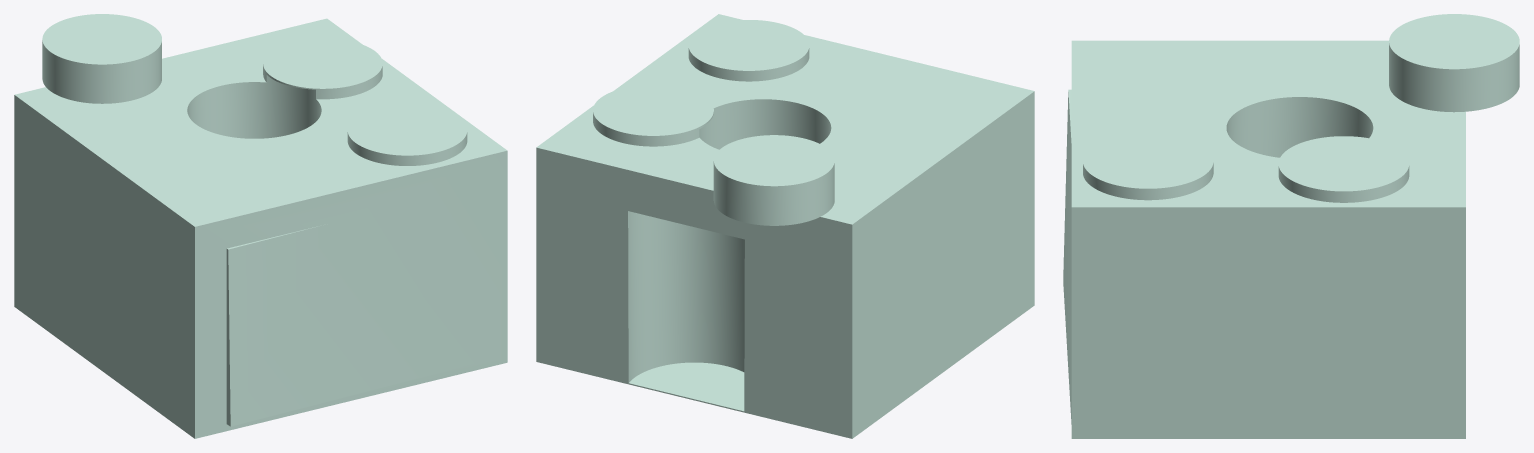
The picture shows the model from 3 angles, left to right: view 1: azimuth 30°, elevation 25°; view 2: azimuth 150°, elevation 25°; view 3: azimuth 270°, elevation 25°; orthographic projection. The views are drawn at different scales.
Visible parts, largest first — view 1: Renderer Node; view 2: Renderer Node; view 3: Renderer Node.
Part boxes in pixels (<box>): Renderer Node: <box>14,14,507,438</box>; Renderer Node: <box>536,14,1034,438</box>; Renderer Node: <box>1063,14,1519,438</box>.
Bounding box in the file's own units: 0.9766 × 0.75 × 1.13.
